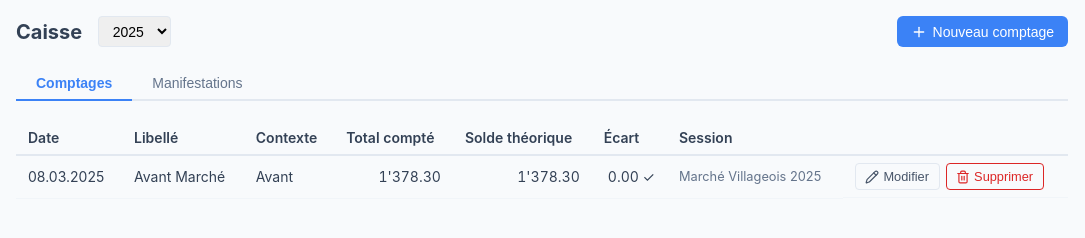
it: CaissePage — onglet Manifestations › cliquer sur une session l'expand et montre ses comptages liés
The image size is (1085, 238).
What coordinates should you click on to do the following:
click the tab "Manifestations"
I would click on:
 (197, 84)
Its box is [132,67,262,101].
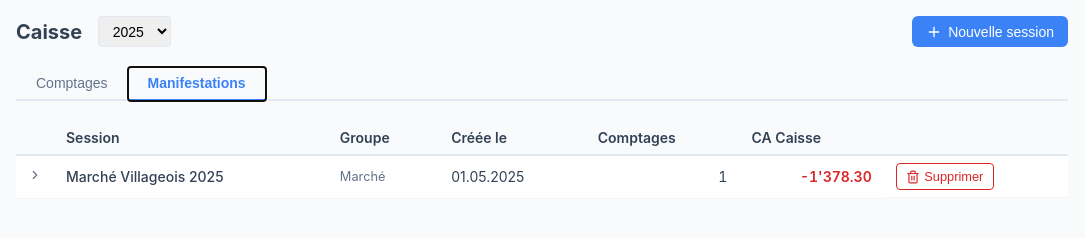
# Click the session row to expand
What coordinates should you click on to do the following:
click the text "Marché Villageois 2025"
I would click on:
 (191, 177)
Its box is [54,155,328,198].
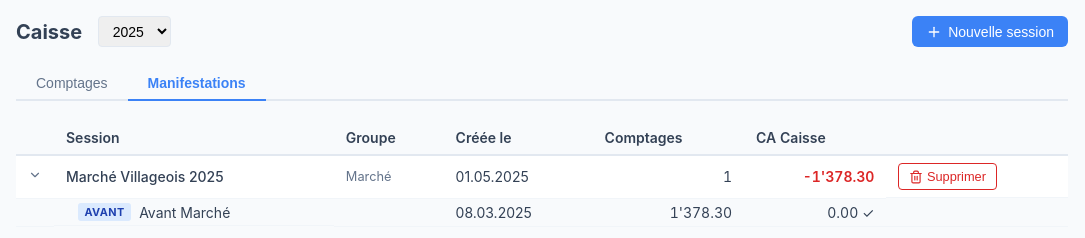
Expected: the text "Avant Marché" is shown, [139,204,230,220]
